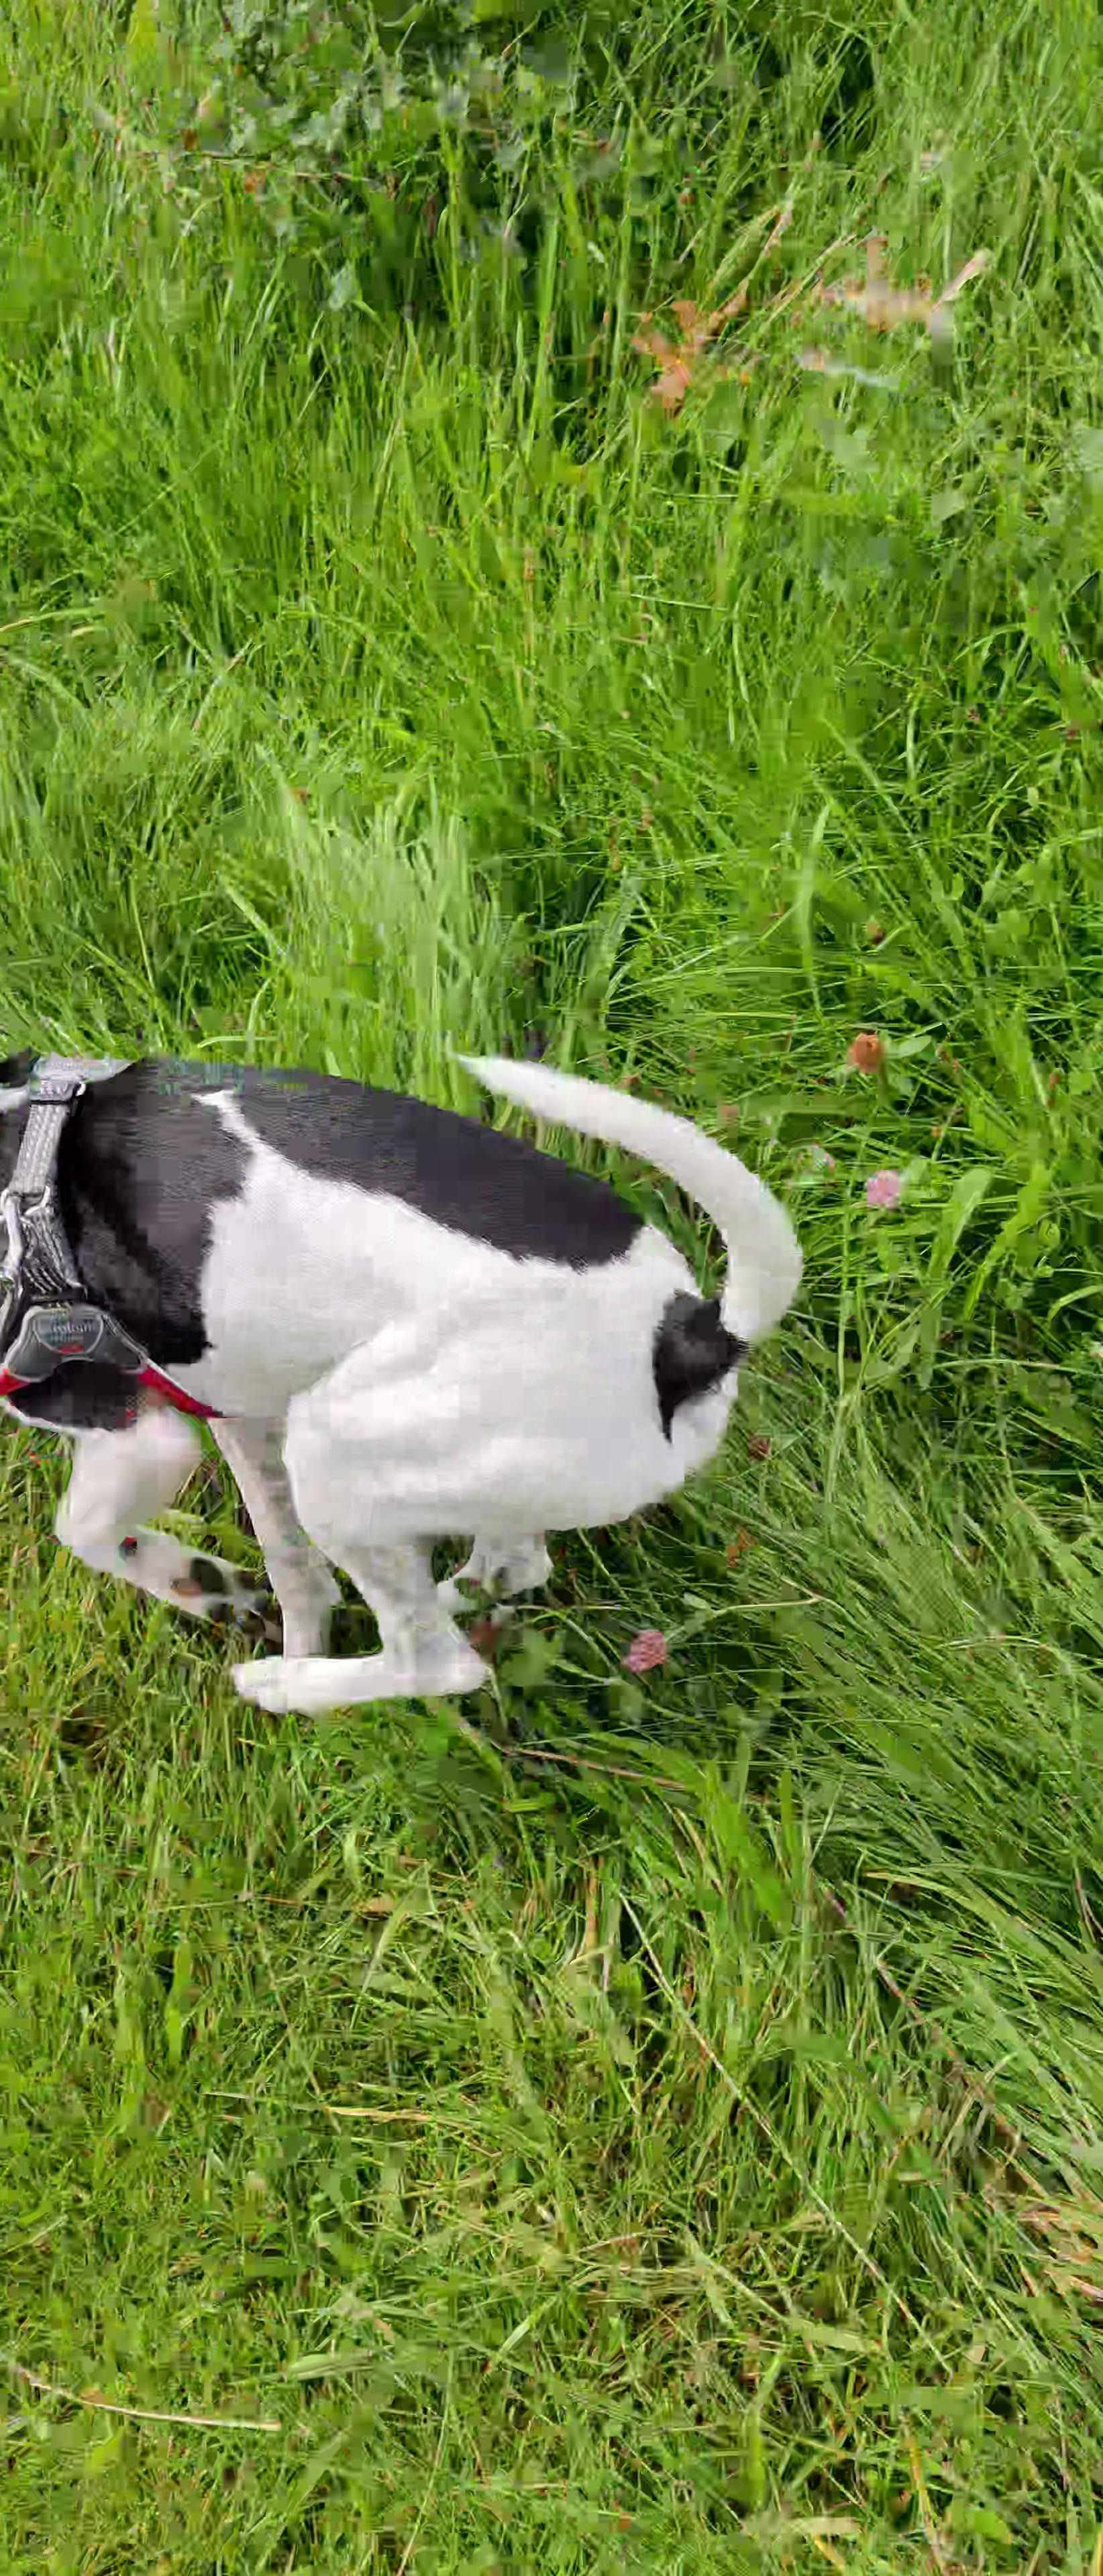Dog: (0, 1043, 809, 1723)
